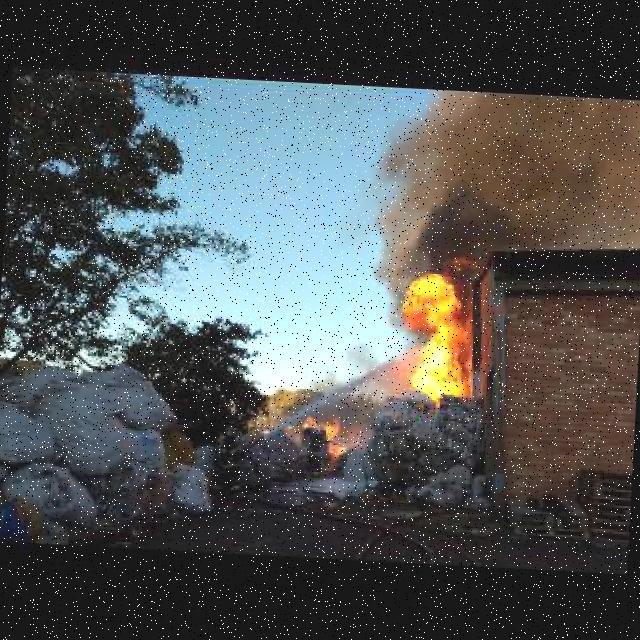Fire: (397, 271, 483, 397), (295, 413, 347, 456)
Smoke: (365, 85, 598, 268), (318, 326, 386, 409)
